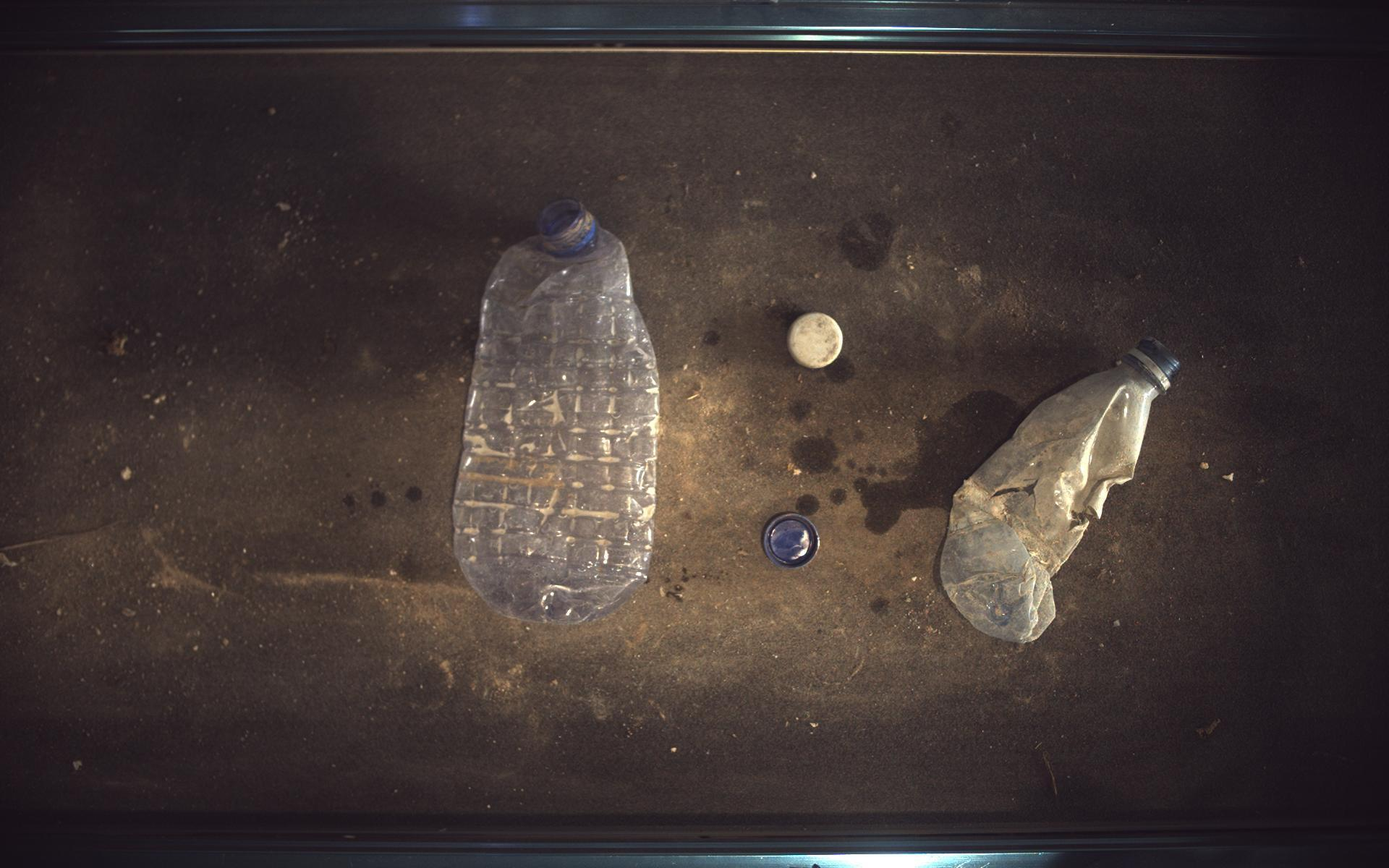general_w: (453, 198, 660, 625), (942, 336, 1183, 643), (763, 513, 821, 570), (789, 312, 844, 368)
